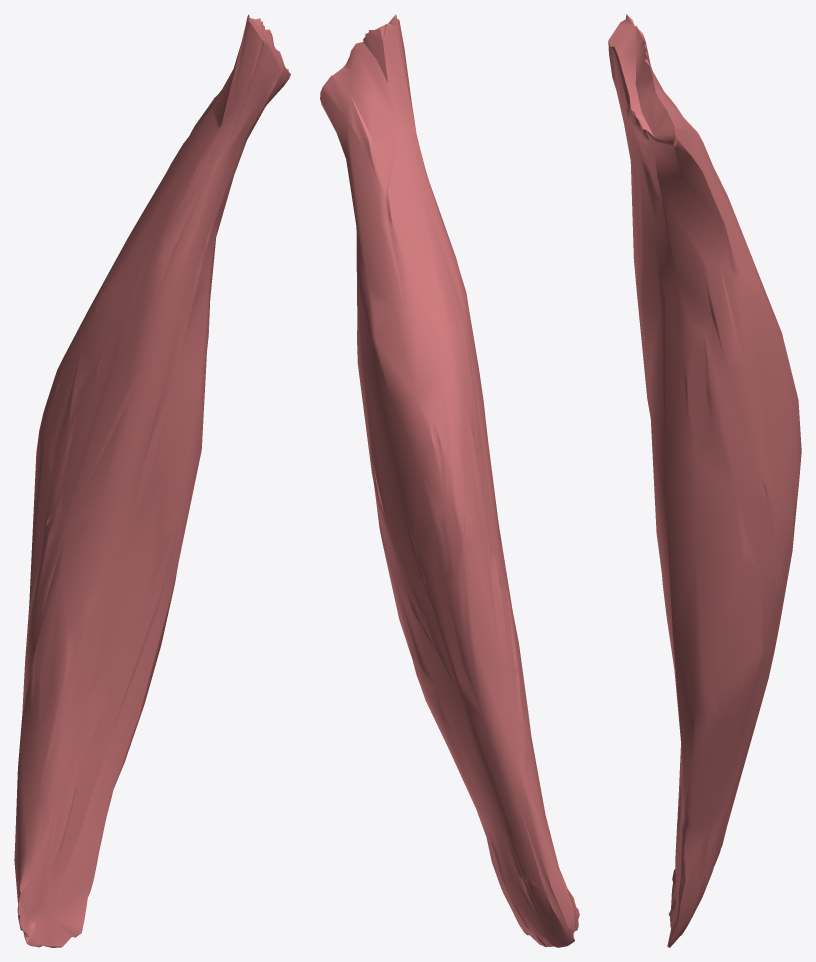
3 views of the same model, side by side, from view 1: azimuth 30°, elevation 25°; view 2: azimuth 150°, elevation 25°; view 3: azimuth 270°, elevation 25° (orthographic). The views are drawn at different scales.
Parts seen in each view (by area): view 1: FJ1479; view 2: FJ1479; view 3: FJ1479.
Boxes of the visible parts, x1,y1,x2,y2 form: FJ1479: (14,14,290,947); FJ1479: (320,14,579,947); FJ1479: (608,14,801,947).
Bounding box in the file's own units: 0.0813 × 0.2641 × 0.0451.
